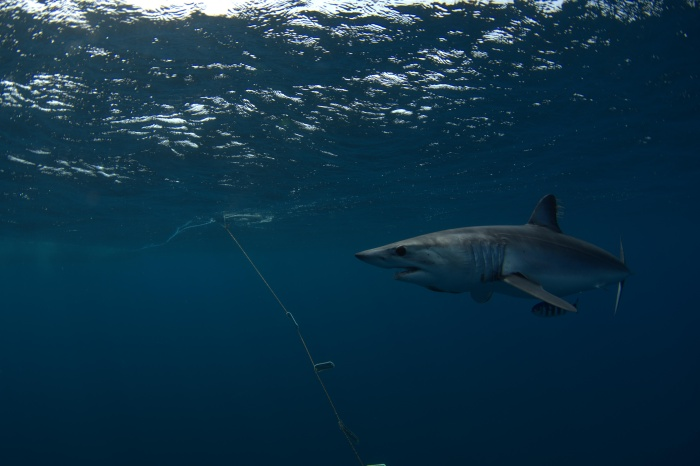Mako: (343, 186, 642, 325)
